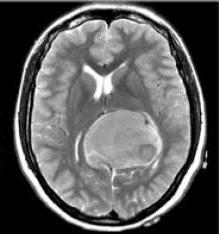Tumour-Meningioma: (64, 100, 174, 187)
